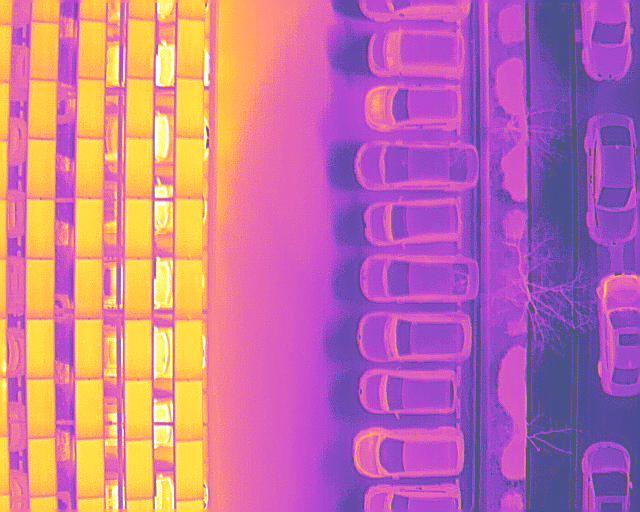No-Anomaly: (76, 80, 106, 139), (27, 139, 56, 200), (26, 200, 55, 261), (26, 260, 55, 319), (76, 319, 104, 379), (76, 140, 104, 200), (176, 440, 203, 502), (126, 78, 154, 137), (125, 137, 152, 198), (76, 199, 103, 260), (76, 379, 103, 440), (175, 260, 202, 321), (27, 320, 55, 378), (30, 78, 56, 140), (30, 21, 58, 78), (175, 320, 202, 379), (28, 380, 55, 439), (128, 19, 155, 78), (79, 21, 106, 80), (125, 200, 152, 259), (124, 381, 151, 440), (125, 320, 152, 379), (176, 379, 202, 440), (176, 138, 202, 199), (76, 260, 103, 318), (126, 440, 152, 500), (177, 78, 203, 138), (29, 440, 56, 497), (177, 19, 203, 78), (77, 441, 103, 500), (125, 260, 151, 319), (176, 197, 201, 258)
